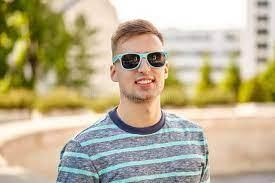sunglasses: (117, 47, 173, 74)
